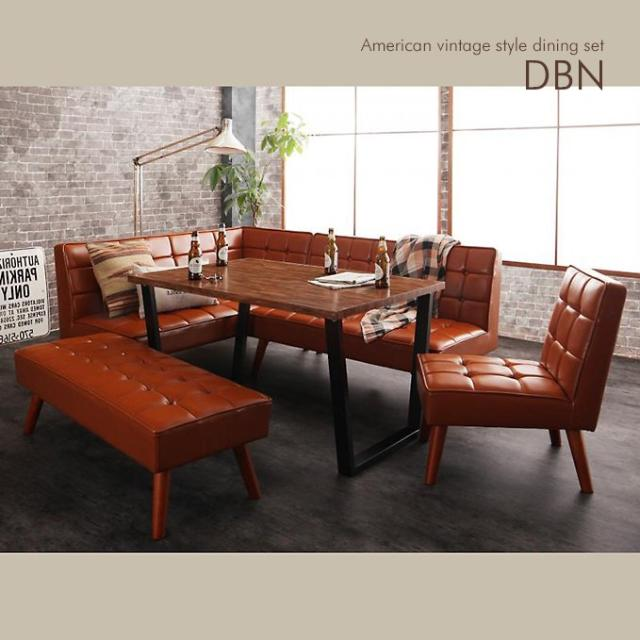vintage chair: (15, 326, 277, 541), (414, 263, 626, 495)
vintage desk: (124, 253, 429, 470)
vintage sofa: (52, 225, 501, 372)
